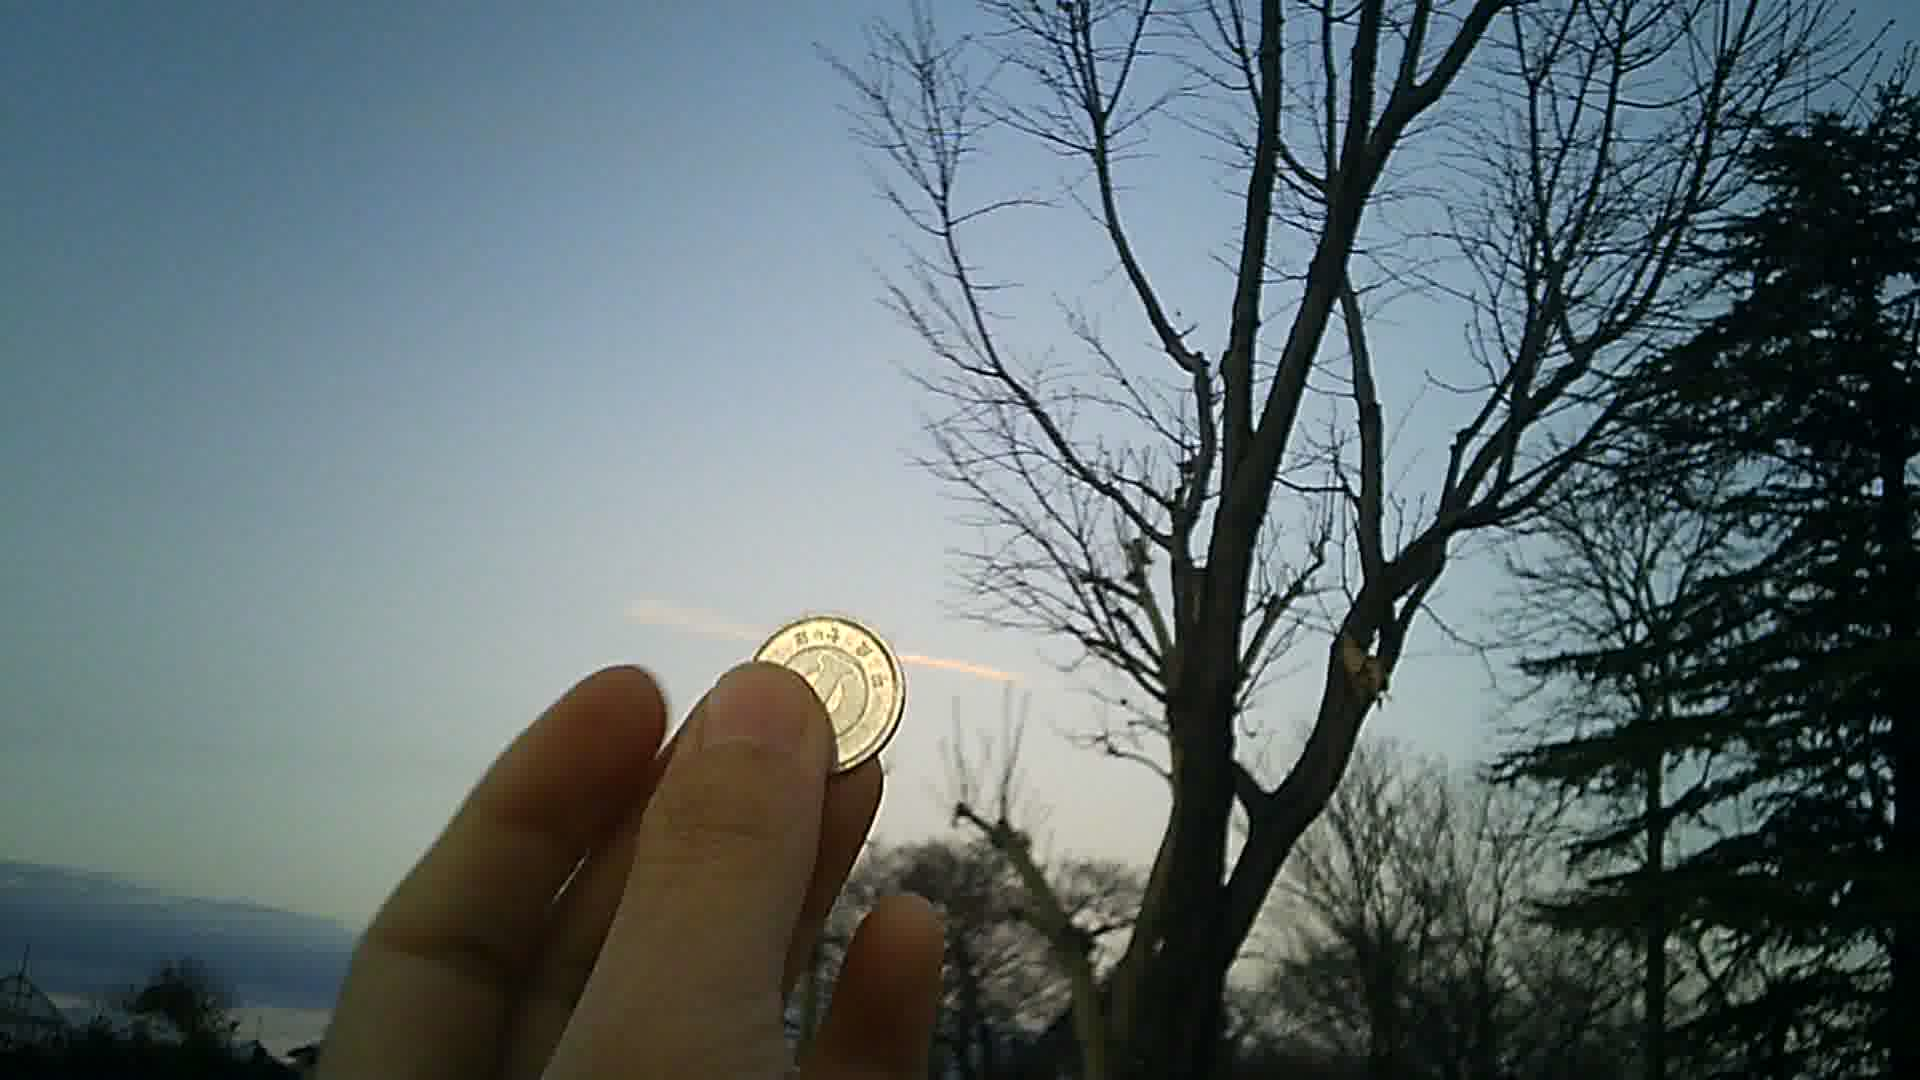1 Yen: (731, 604, 913, 771)
